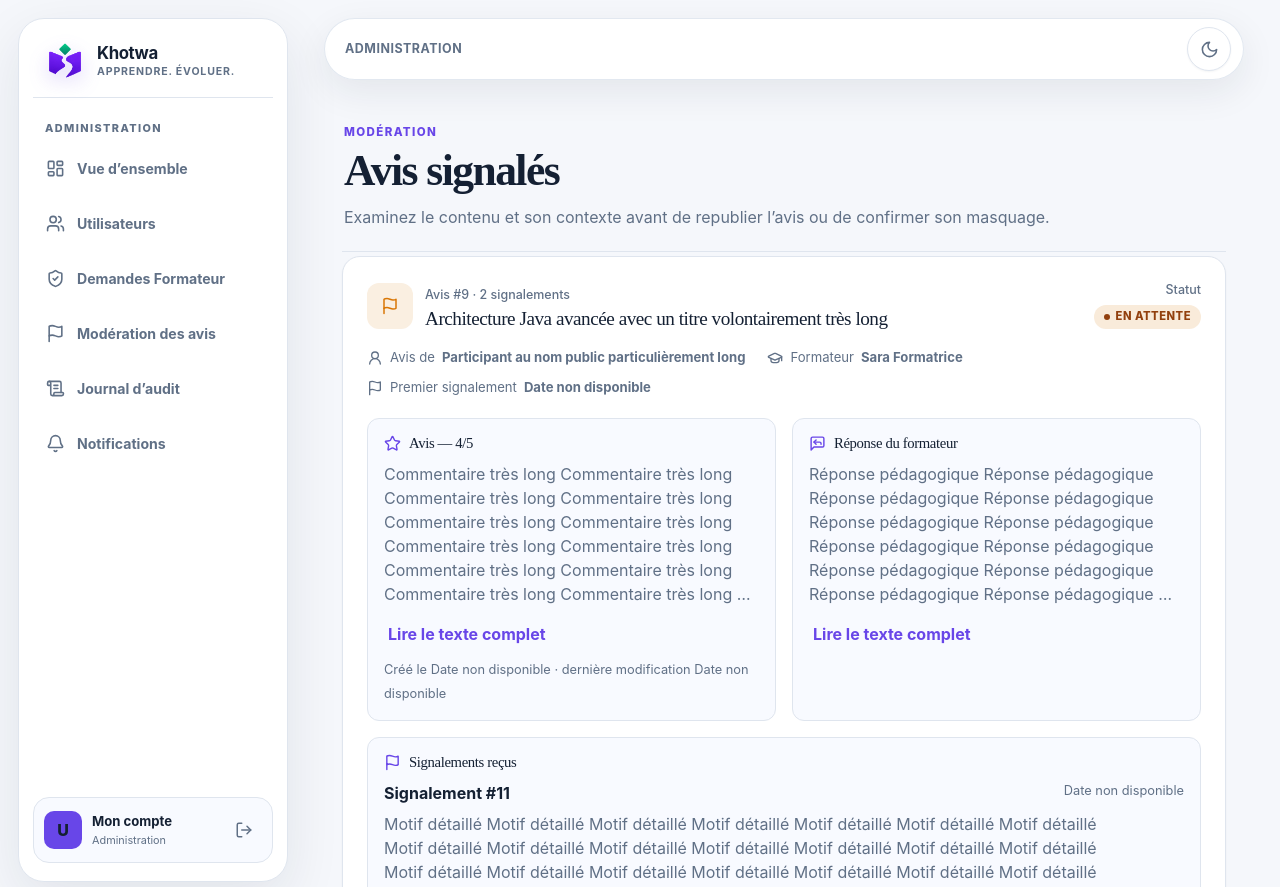
Test: workflow de modération Admin › regroupe les signalements d’un même avis et garde les textes complets accessibles
The width and height of the screenshot is (1280, 887).
Expected: the text "Avis #9 · 2 signalements" is shown, [425, 287, 570, 302]
Expected: the text "Signalement #11" is shown, [384, 782, 510, 806]
Click the button "Lire le texte complet" below "Avis —": click(467, 634) [384, 612, 550, 656]
(page scrolled)
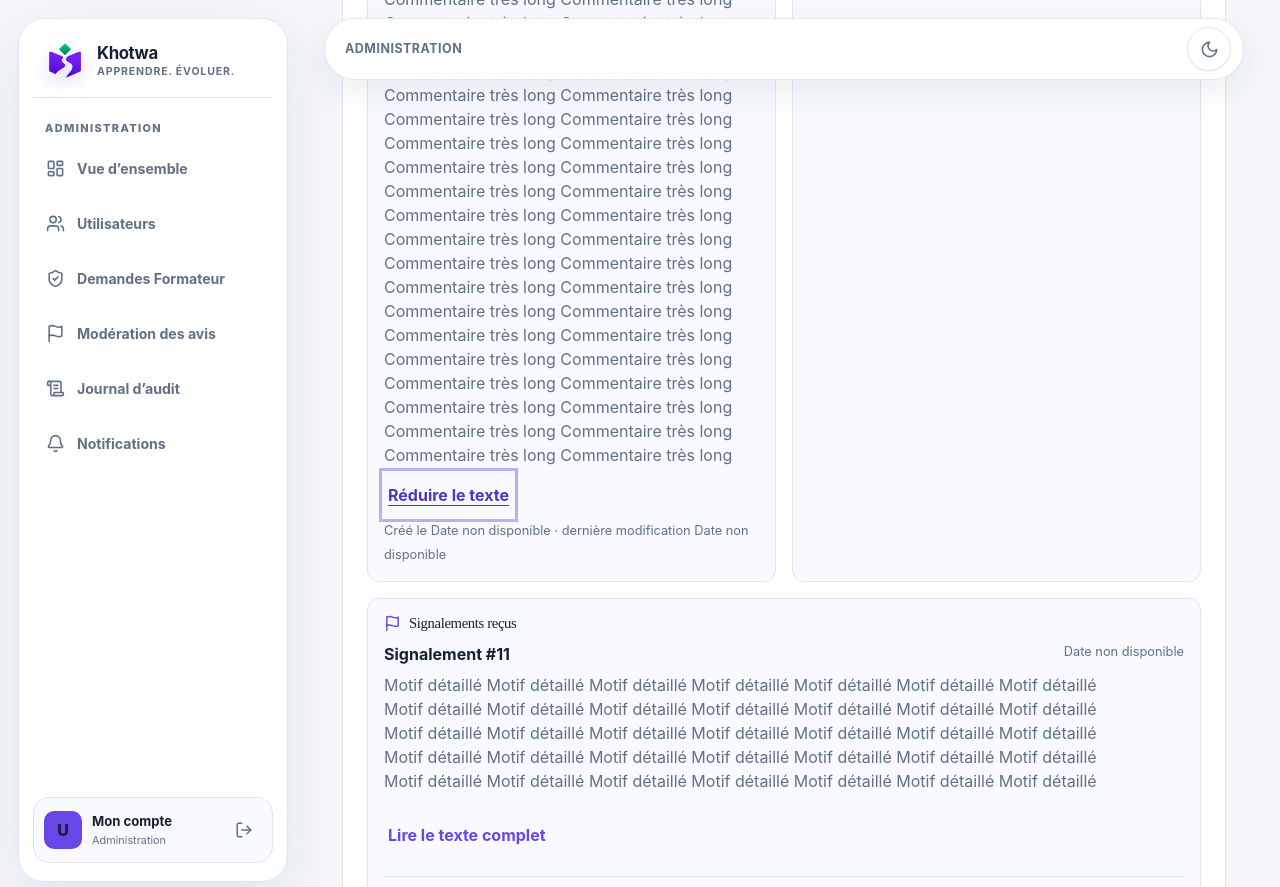
Result: the button named "Lire le texte complet" is expanded at [384, 473, 513, 517]
